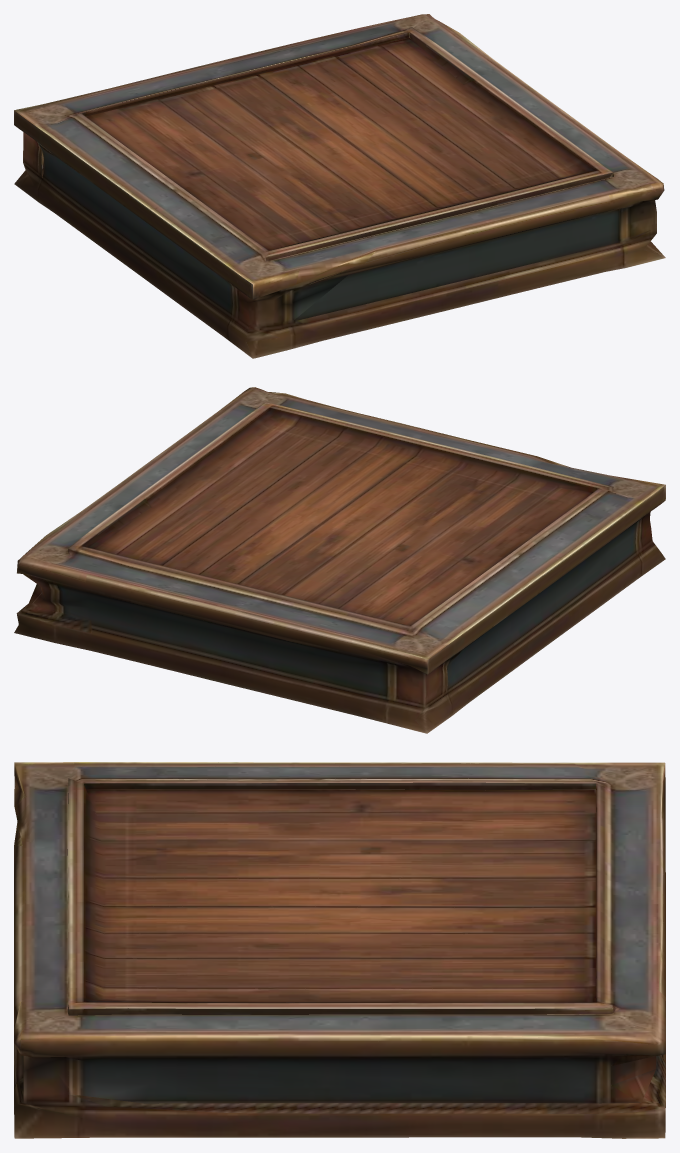
Rendered from platform1.glb.
3 renders of one model, top to bottom at view 1: azimuth 30°, elevation 25°; view 2: azimuth 150°, elevation 25°; view 3: azimuth 270°, elevation 25°, orthographic. The views are drawn at different scales.
Parts seen in each view (by area): view 1: Mesh0; view 2: Mesh0; view 3: Mesh0.
Part boxes in pixels (x1,y1,x2,y2): Mesh0: (14, 14, 665, 358); Mesh0: (14, 387, 665, 733); Mesh0: (14, 762, 665, 1138).
Bounding box in the file's own units: 2 × 0.371 × 2.
Materials: 1 (1 with a texture image).
